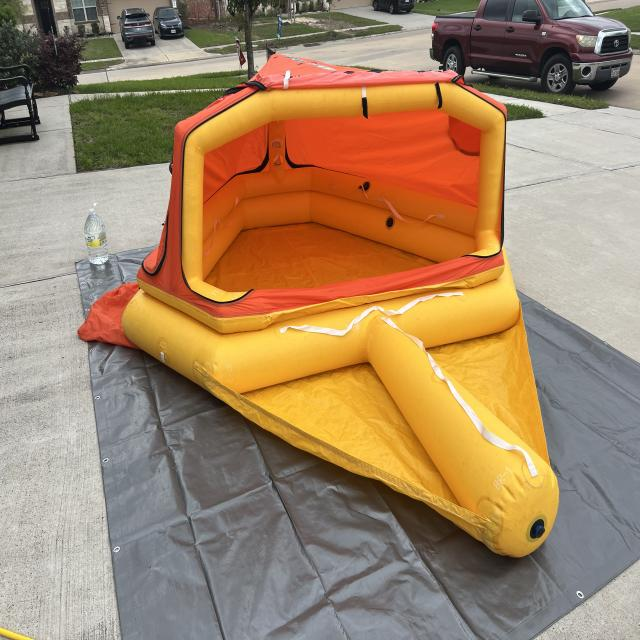Multi-person_life_raft: (77, 55, 559, 560)
